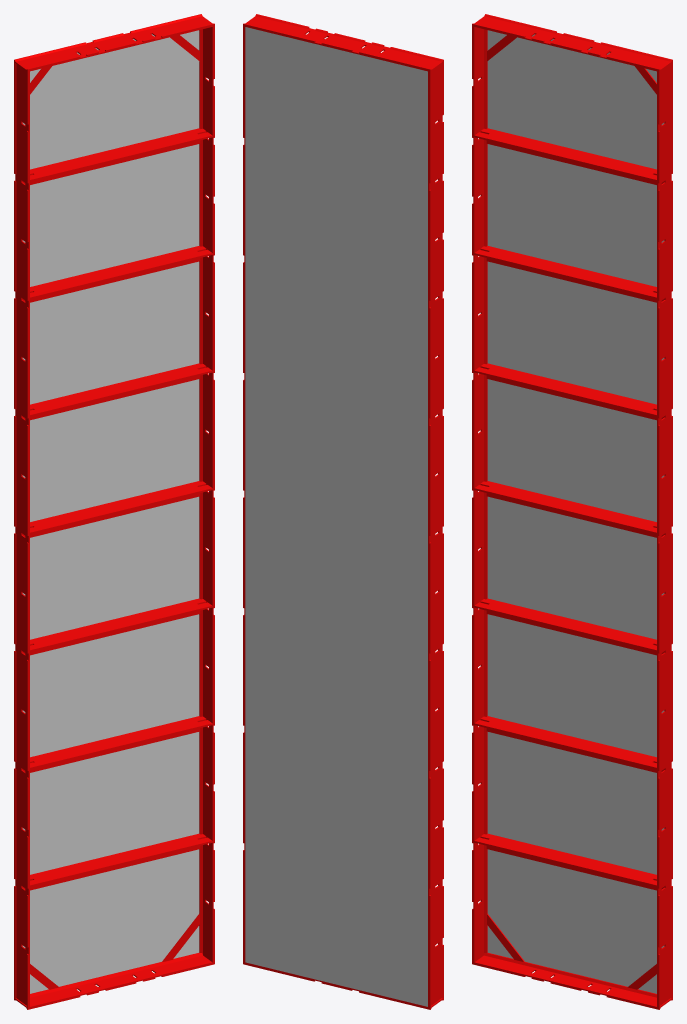
3 renders of one model, left to right at view 1: azimuth 30°, elevation 25°; view 2: azimuth 150°, elevation 25°; view 3: azimuth 330°, elevation 25°, orthographic.
Visible parts, largest first — view 1: Sp-20X8-P, Sp-20X8; view 2: Sp-20X8-P, Sp-20X8; view 3: Sp-20X8-P, Sp-20X8.
Part boxes in pixels (x1,y1,x2,y2): Sp-20X8-P: [22, 30, 199, 993]; Sp-20X8: [14, 14, 214, 1009]; Sp-20X8-P: [245, 27, 427, 1006]; Sp-20X8: [243, 14, 443, 1009]; Sp-20X8-P: [487, 30, 664, 993]; Sp-20X8: [472, 14, 672, 1009].
Size of the model in its own units: 20 by 96 by 2.5.
